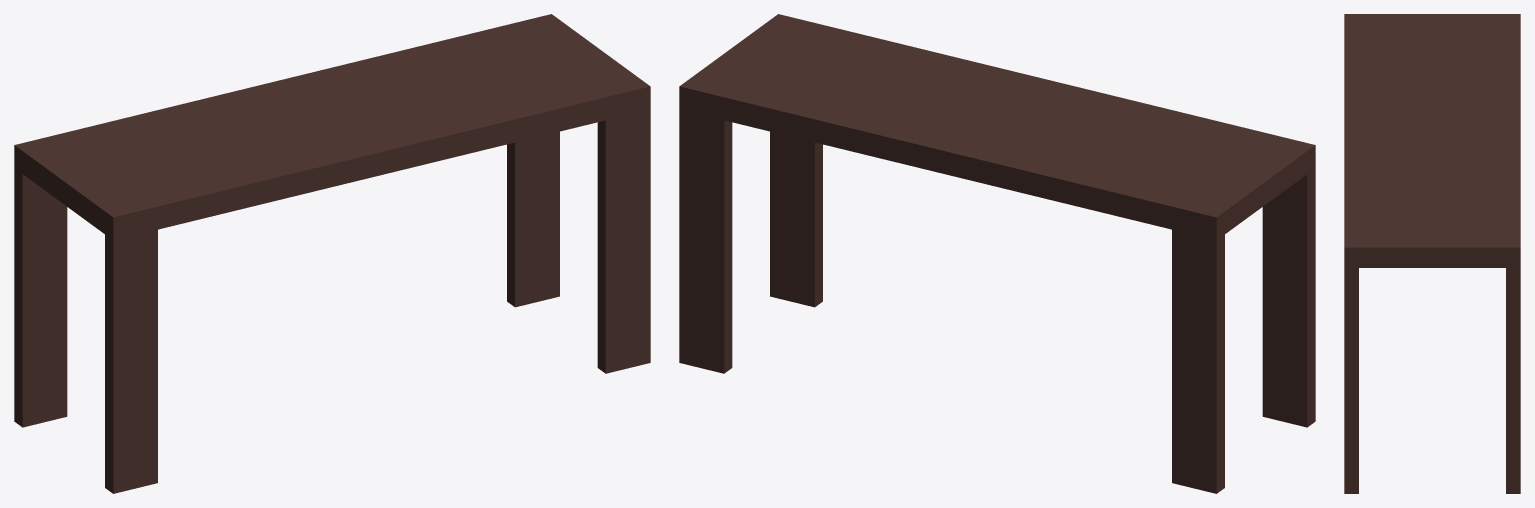
File: mesa.fbx
3 renders of one model, left to right at view 1: azimuth 30°, elevation 25°; view 2: azimuth 150°, elevation 25°; view 3: azimuth 270°, elevation 25°, orthographic. The views are drawn at different scales.
Visible parts, largest first — view 1: mesa; view 2: mesa; view 3: mesa.
Boxes of the visible parts, box(x1,y1,x2,y2) form: mesa: box(14, 14, 650, 493); mesa: box(679, 14, 1315, 493); mesa: box(1344, 14, 1520, 493).
Size of the model in its own units: 193 by 94.83 by 61.49.
